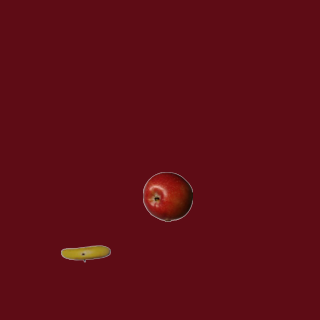Apple Braeburn: (142, 171, 192, 221)
Banana: (60, 228, 110, 278)
